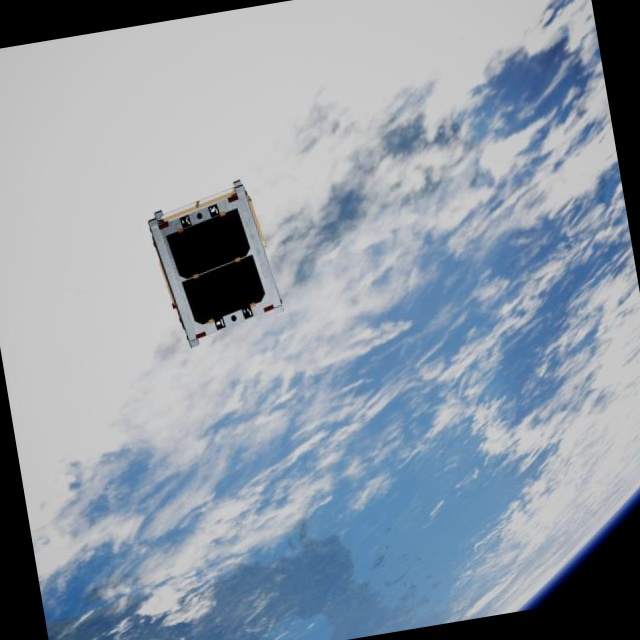satellite: (136, 171, 293, 350)
